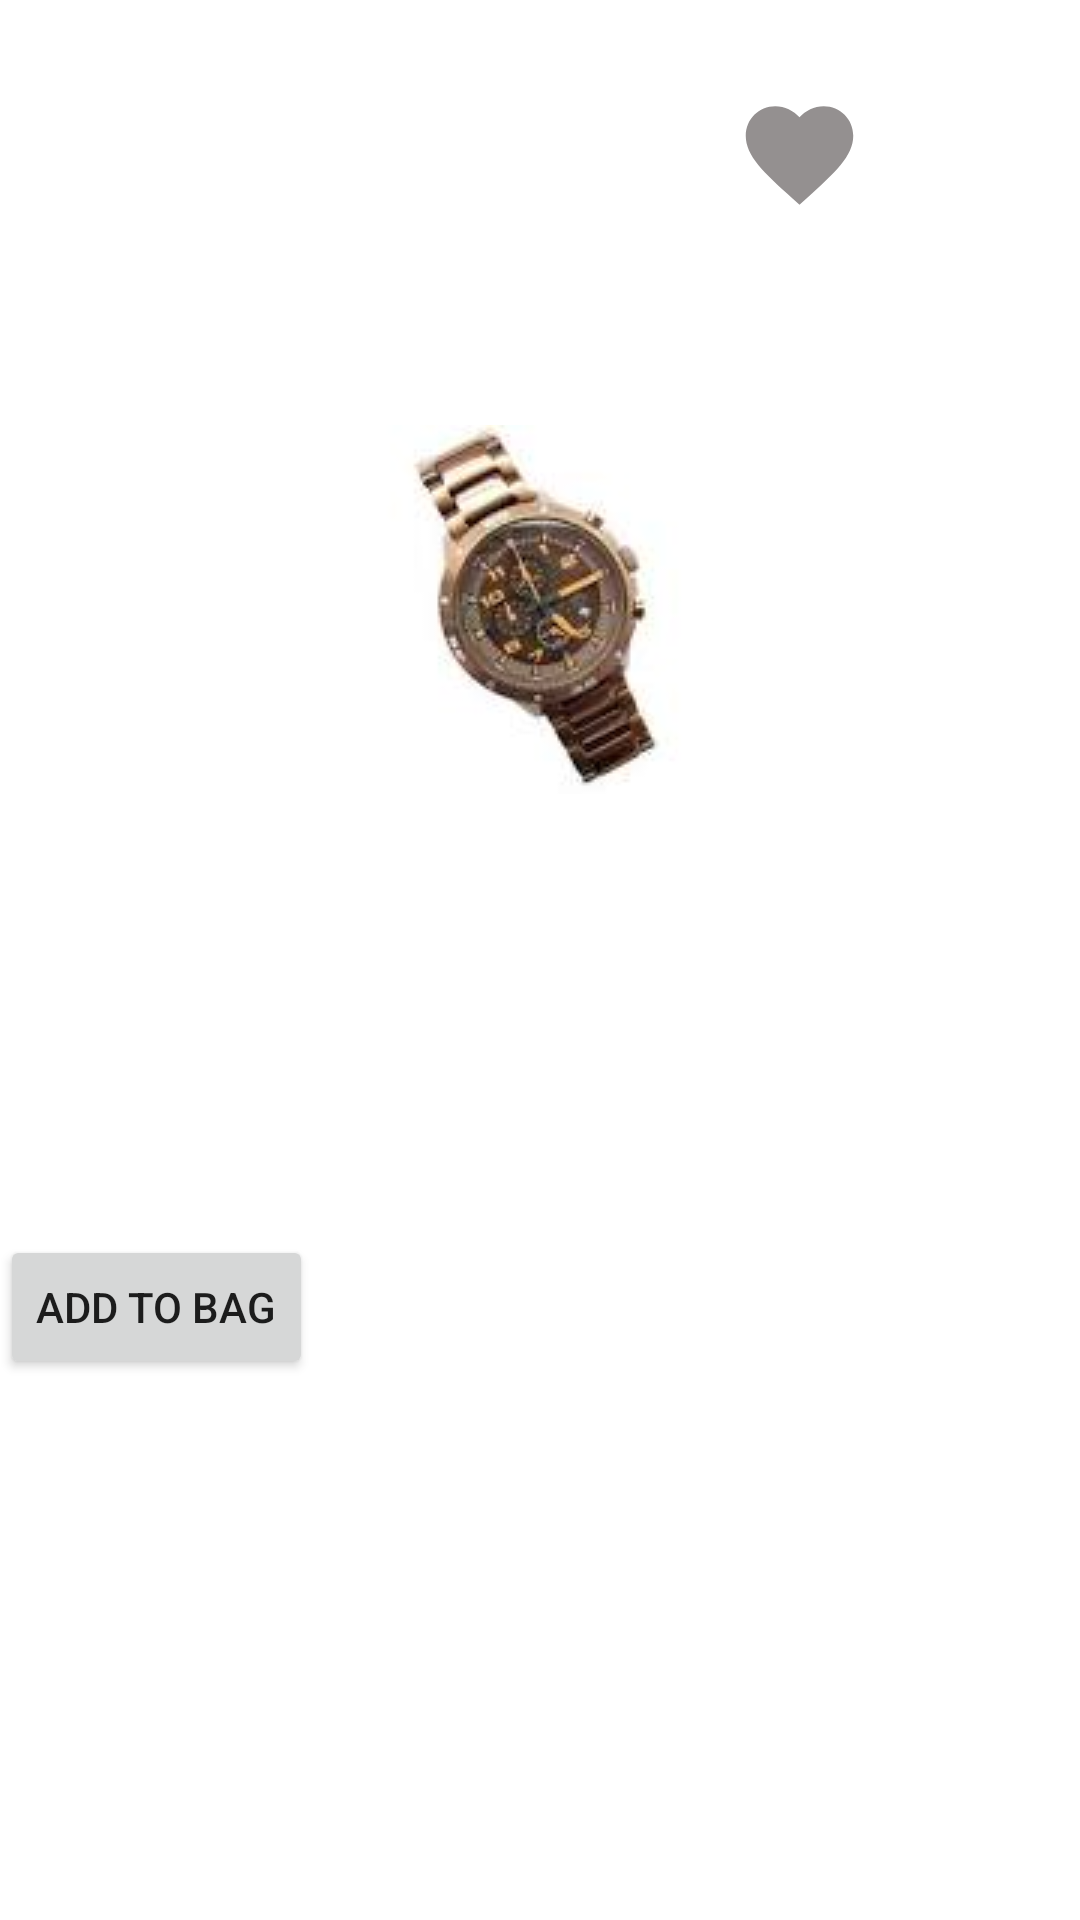

Where to tap for icons on this 1080*1920 app screen, as point (x, y):
favorite: point (799, 155)
